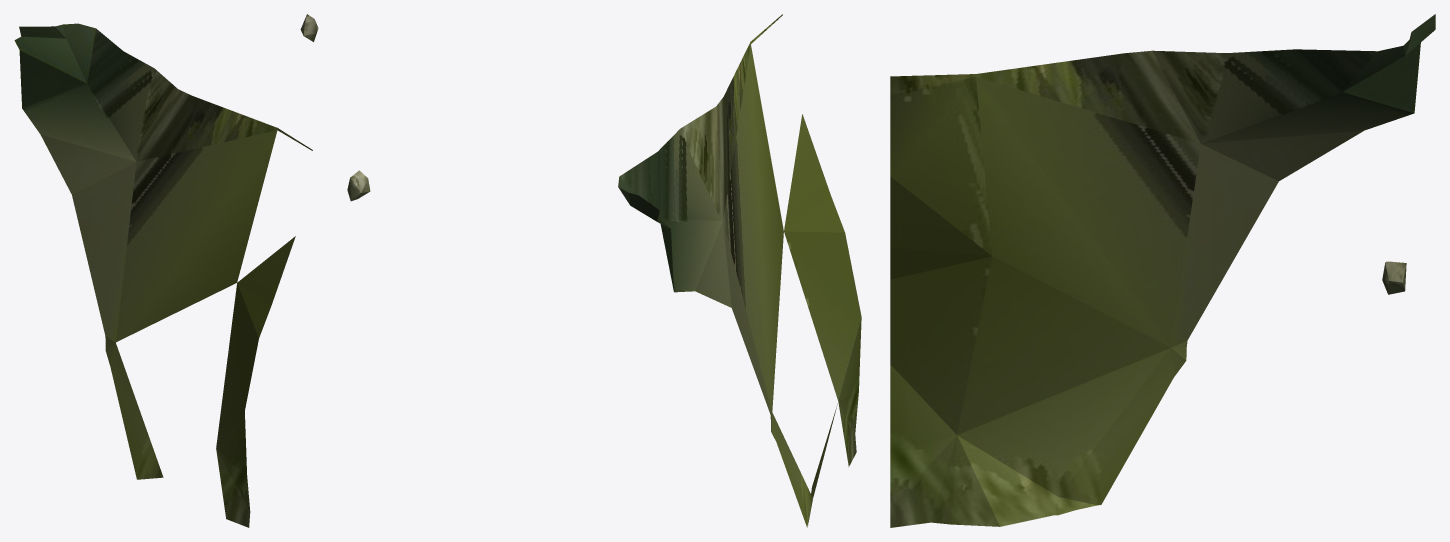
3 views of the same model, side by side, from view 1: azimuth 30°, elevation 25°; view 2: azimuth 150°, elevation 25°; view 3: azimuth 270°, elevation 25° (orthographic). The views are drawn at different scales.
Size of the model in its own units: 2.44 by 2.95 by 2.95.
Materials: 2 (2 with a texture image).
